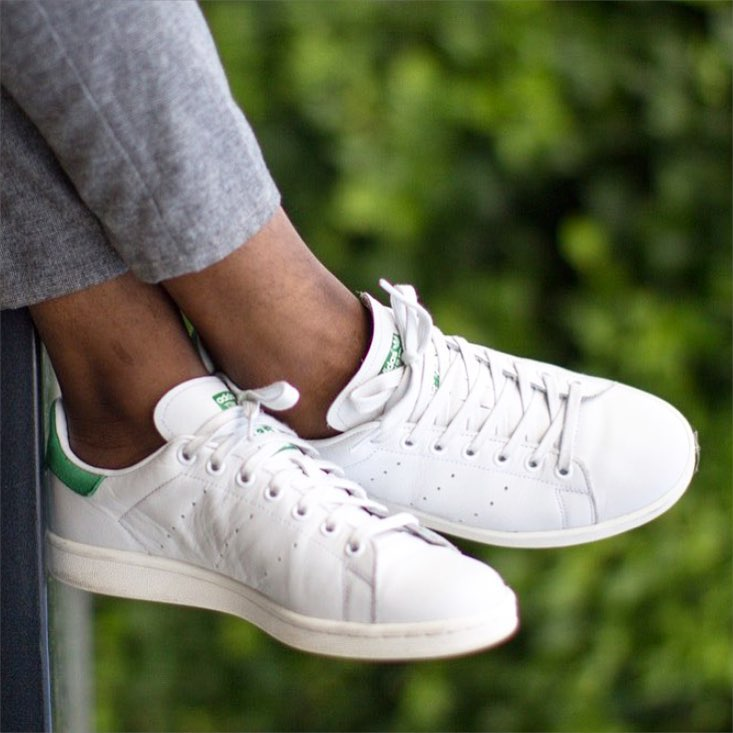sneaker: (16, 343, 531, 678), (185, 266, 719, 576)
